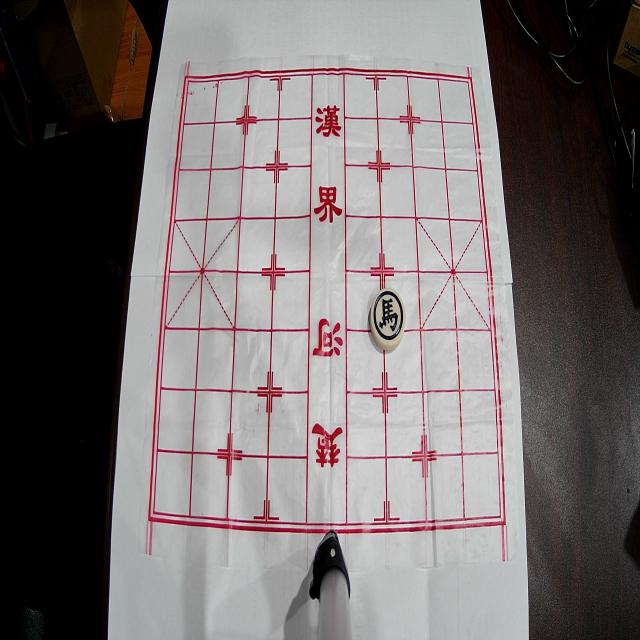black-horse: (370, 288, 406, 351)
